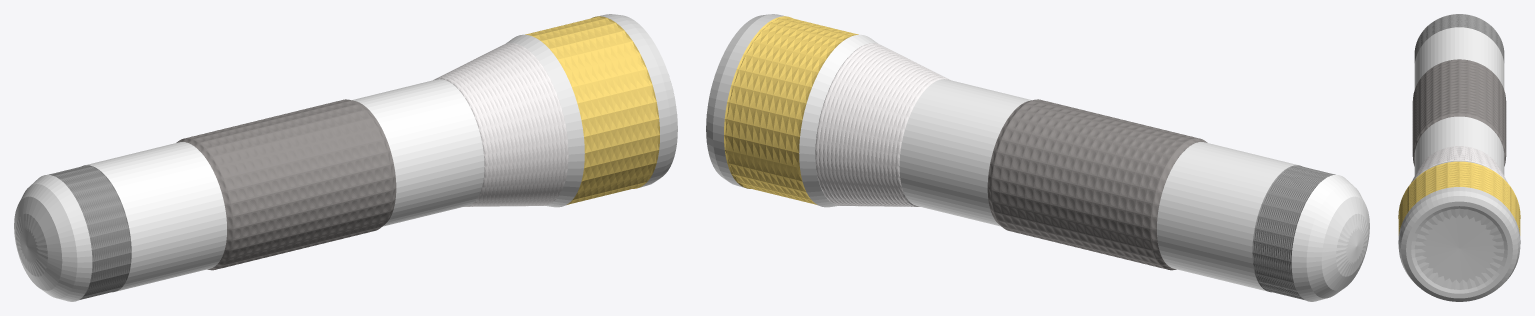
The model's file is flashlight.fbx.
3 renders of one model, left to right at view 1: azimuth 30°, elevation 25°; view 2: azimuth 150°, elevation 25°; view 3: azimuth 270°, elevation 25°, orthographic. The views are drawn at different scales.
Visible parts, largest first — view 1: Cylinder, rough.001, rough.003, rough.002, rough, frontSpot; view 2: Cylinder, rough.001, rough.003, rough.002, rough, frontSpot; view 3: frontSpot, Cylinder, rough.001, rough.003, rough, rough.002.
Boxes of the visible parts, box(x1,y1,x2,y2) form: Cylinder: box(14, 34, 584, 301); rough.001: box(176, 99, 396, 270); rough.003: box(525, 16, 659, 205); rough.002: box(433, 43, 568, 206); rough: box(48, 165, 131, 299); frontSpot: box(598, 14, 677, 187); Cylinder: box(799, 34, 1369, 301); rough.001: box(987, 99, 1207, 270); rough.003: box(724, 16, 858, 205); rough.002: box(815, 43, 950, 206); rough: box(1252, 165, 1335, 299); frontSpot: box(706, 14, 785, 187); frontSpot: box(1398, 187, 1520, 301); Cylinder: box(1414, 27, 1504, 175); rough.001: box(1412, 59, 1506, 166); rough.003: box(1398, 161, 1520, 235); rough: box(1414, 14, 1504, 62); rough.002: box(1411, 146, 1507, 182).
Size of the model in its own units: 496 by 124 by 124.
